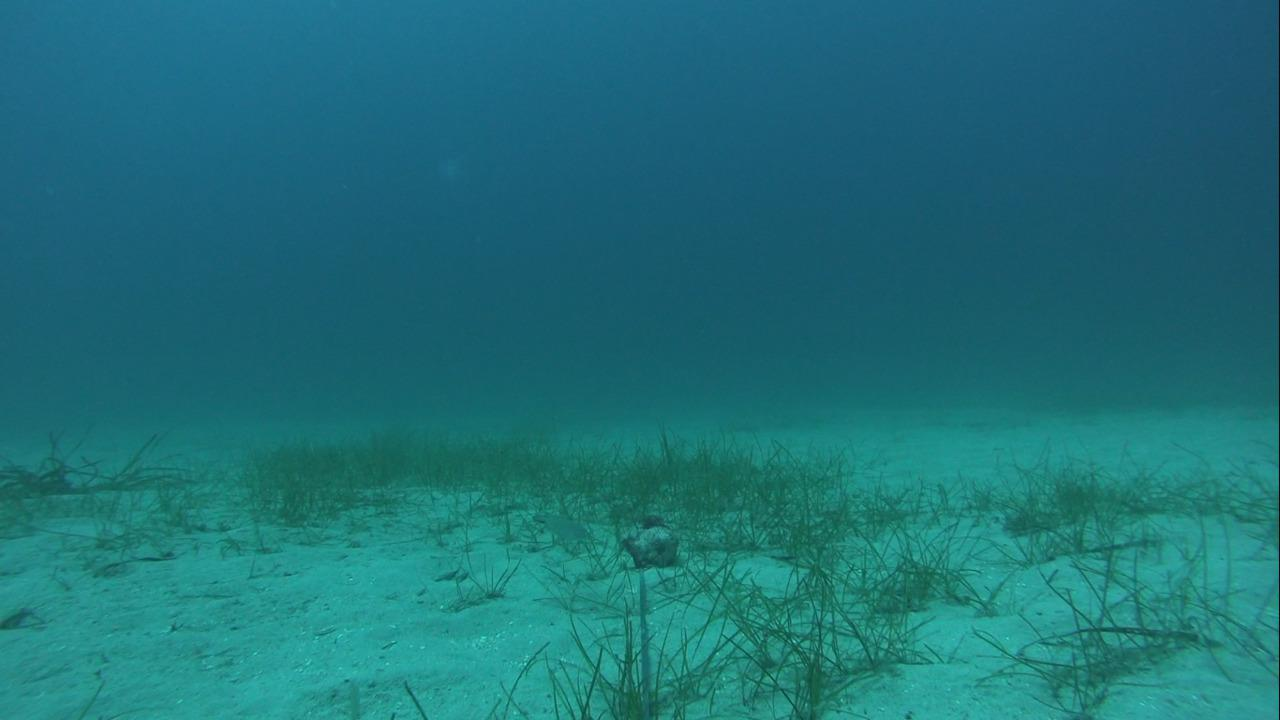raor: (526, 499, 595, 554)
